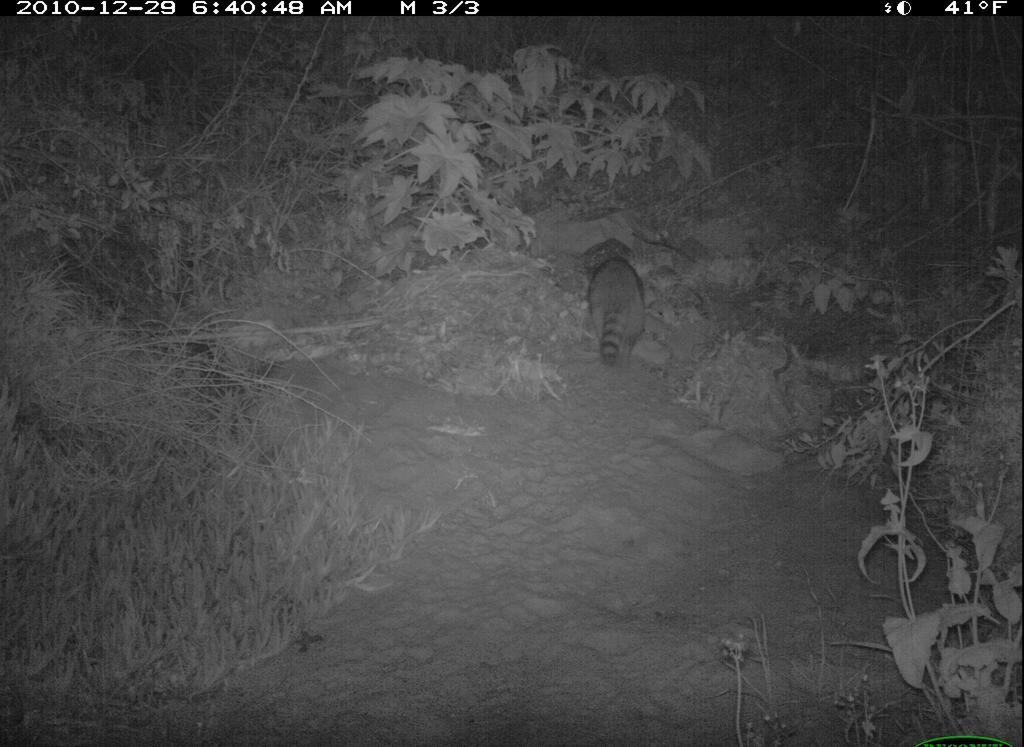raccoon: (577, 230, 656, 376)
